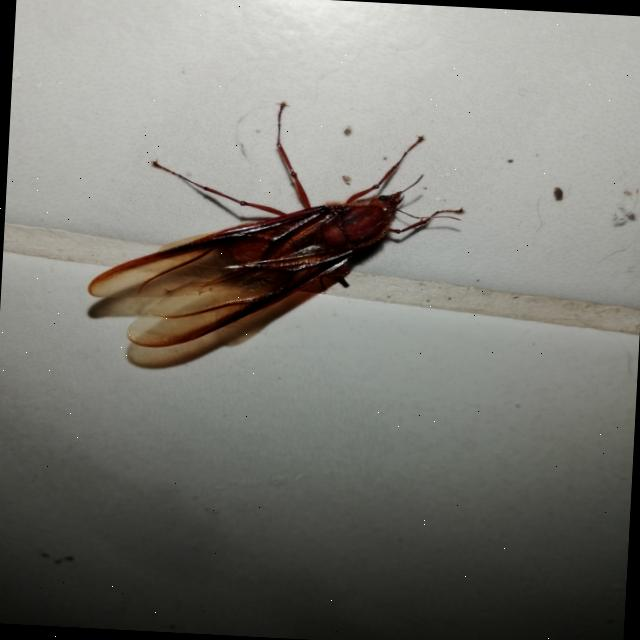Alive-Male-Alate: (86, 92, 468, 363)
